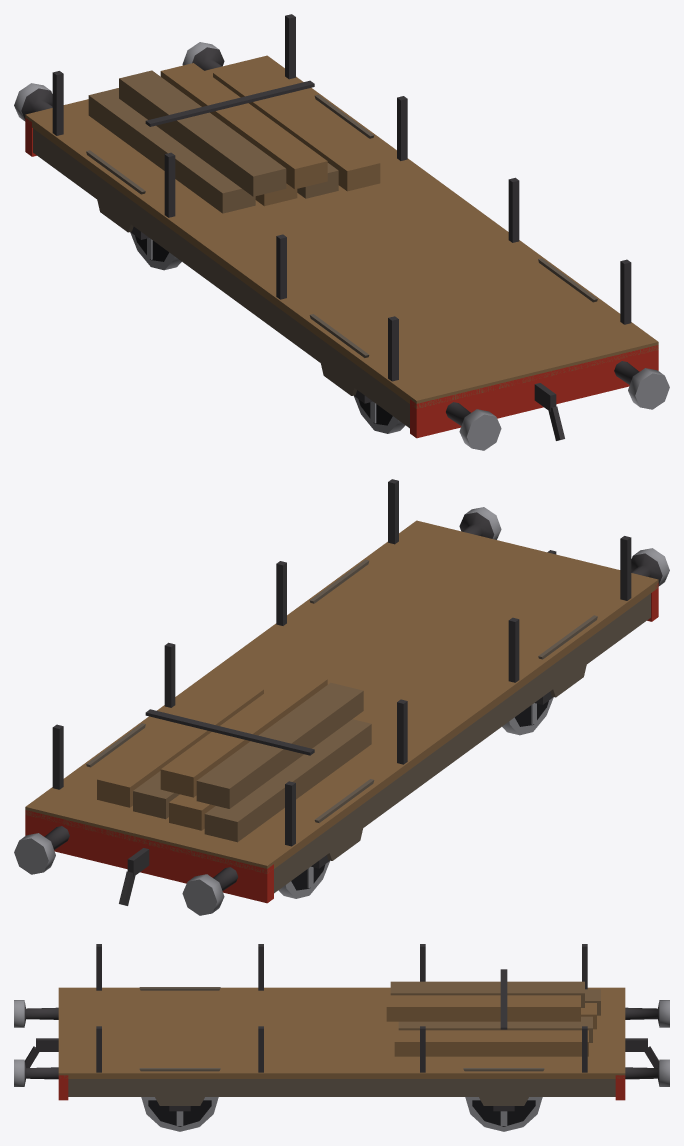
File: wagon_flat.glb
3 views of the same model, one above another, from view 1: azimuth 30°, elevation 25°; view 2: azimuth 150°, elevation 25°; view 3: azimuth 270°, elevation 25° (orthographic). The views are drawn at different scales.
Visible parts, largest first — view 1: Body, Wheel1, Wheel2; view 2: Body, Wheel2, Wheel1; view 3: Body, Wheel1, Wheel2.
Boxes of the visible parts, <box> form: Body: <box>14,14,669,450</box>; Wheel1: <box>130,232,181,270</box>; Wheel2: <box>354,396,405,433</box>; Body: <box>14,479,669,915</box>; Wheel2: <box>502,697,553,735</box>; Wheel1: <box>278,861,329,898</box>; Body: <box>14,944,669,1111</box>; Wheel1: <box>465,1097,542,1131</box>; Wheel2: <box>141,1097,218,1131</box>.
Size of the model in its own units: 2.5 by 1.6 by 8.1.
